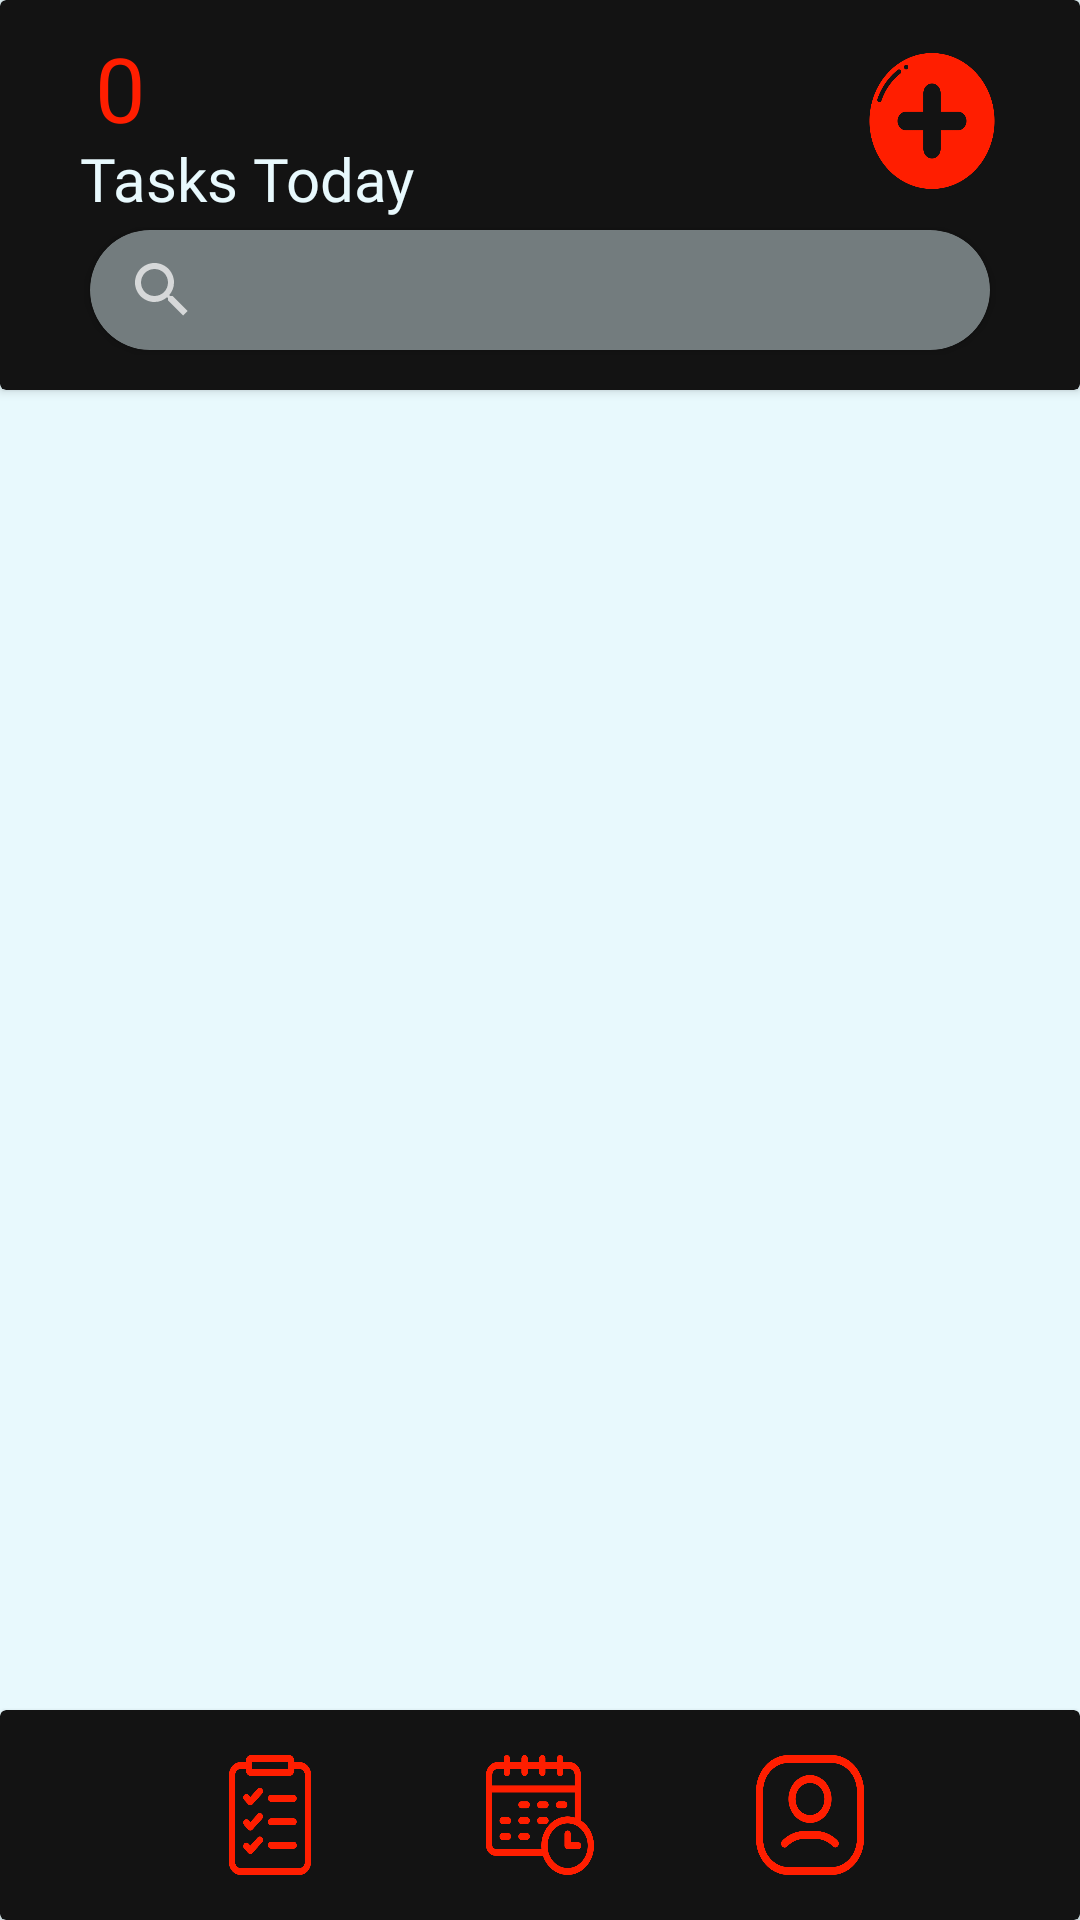

Icons on this 1080 × 1920 Android screen, each with the point to tap as point (x, y):
addbtn: point (932, 121)
redprofile: point (810, 1815)
redschedule: point (540, 1815)
redtodolist: point (270, 1815)
